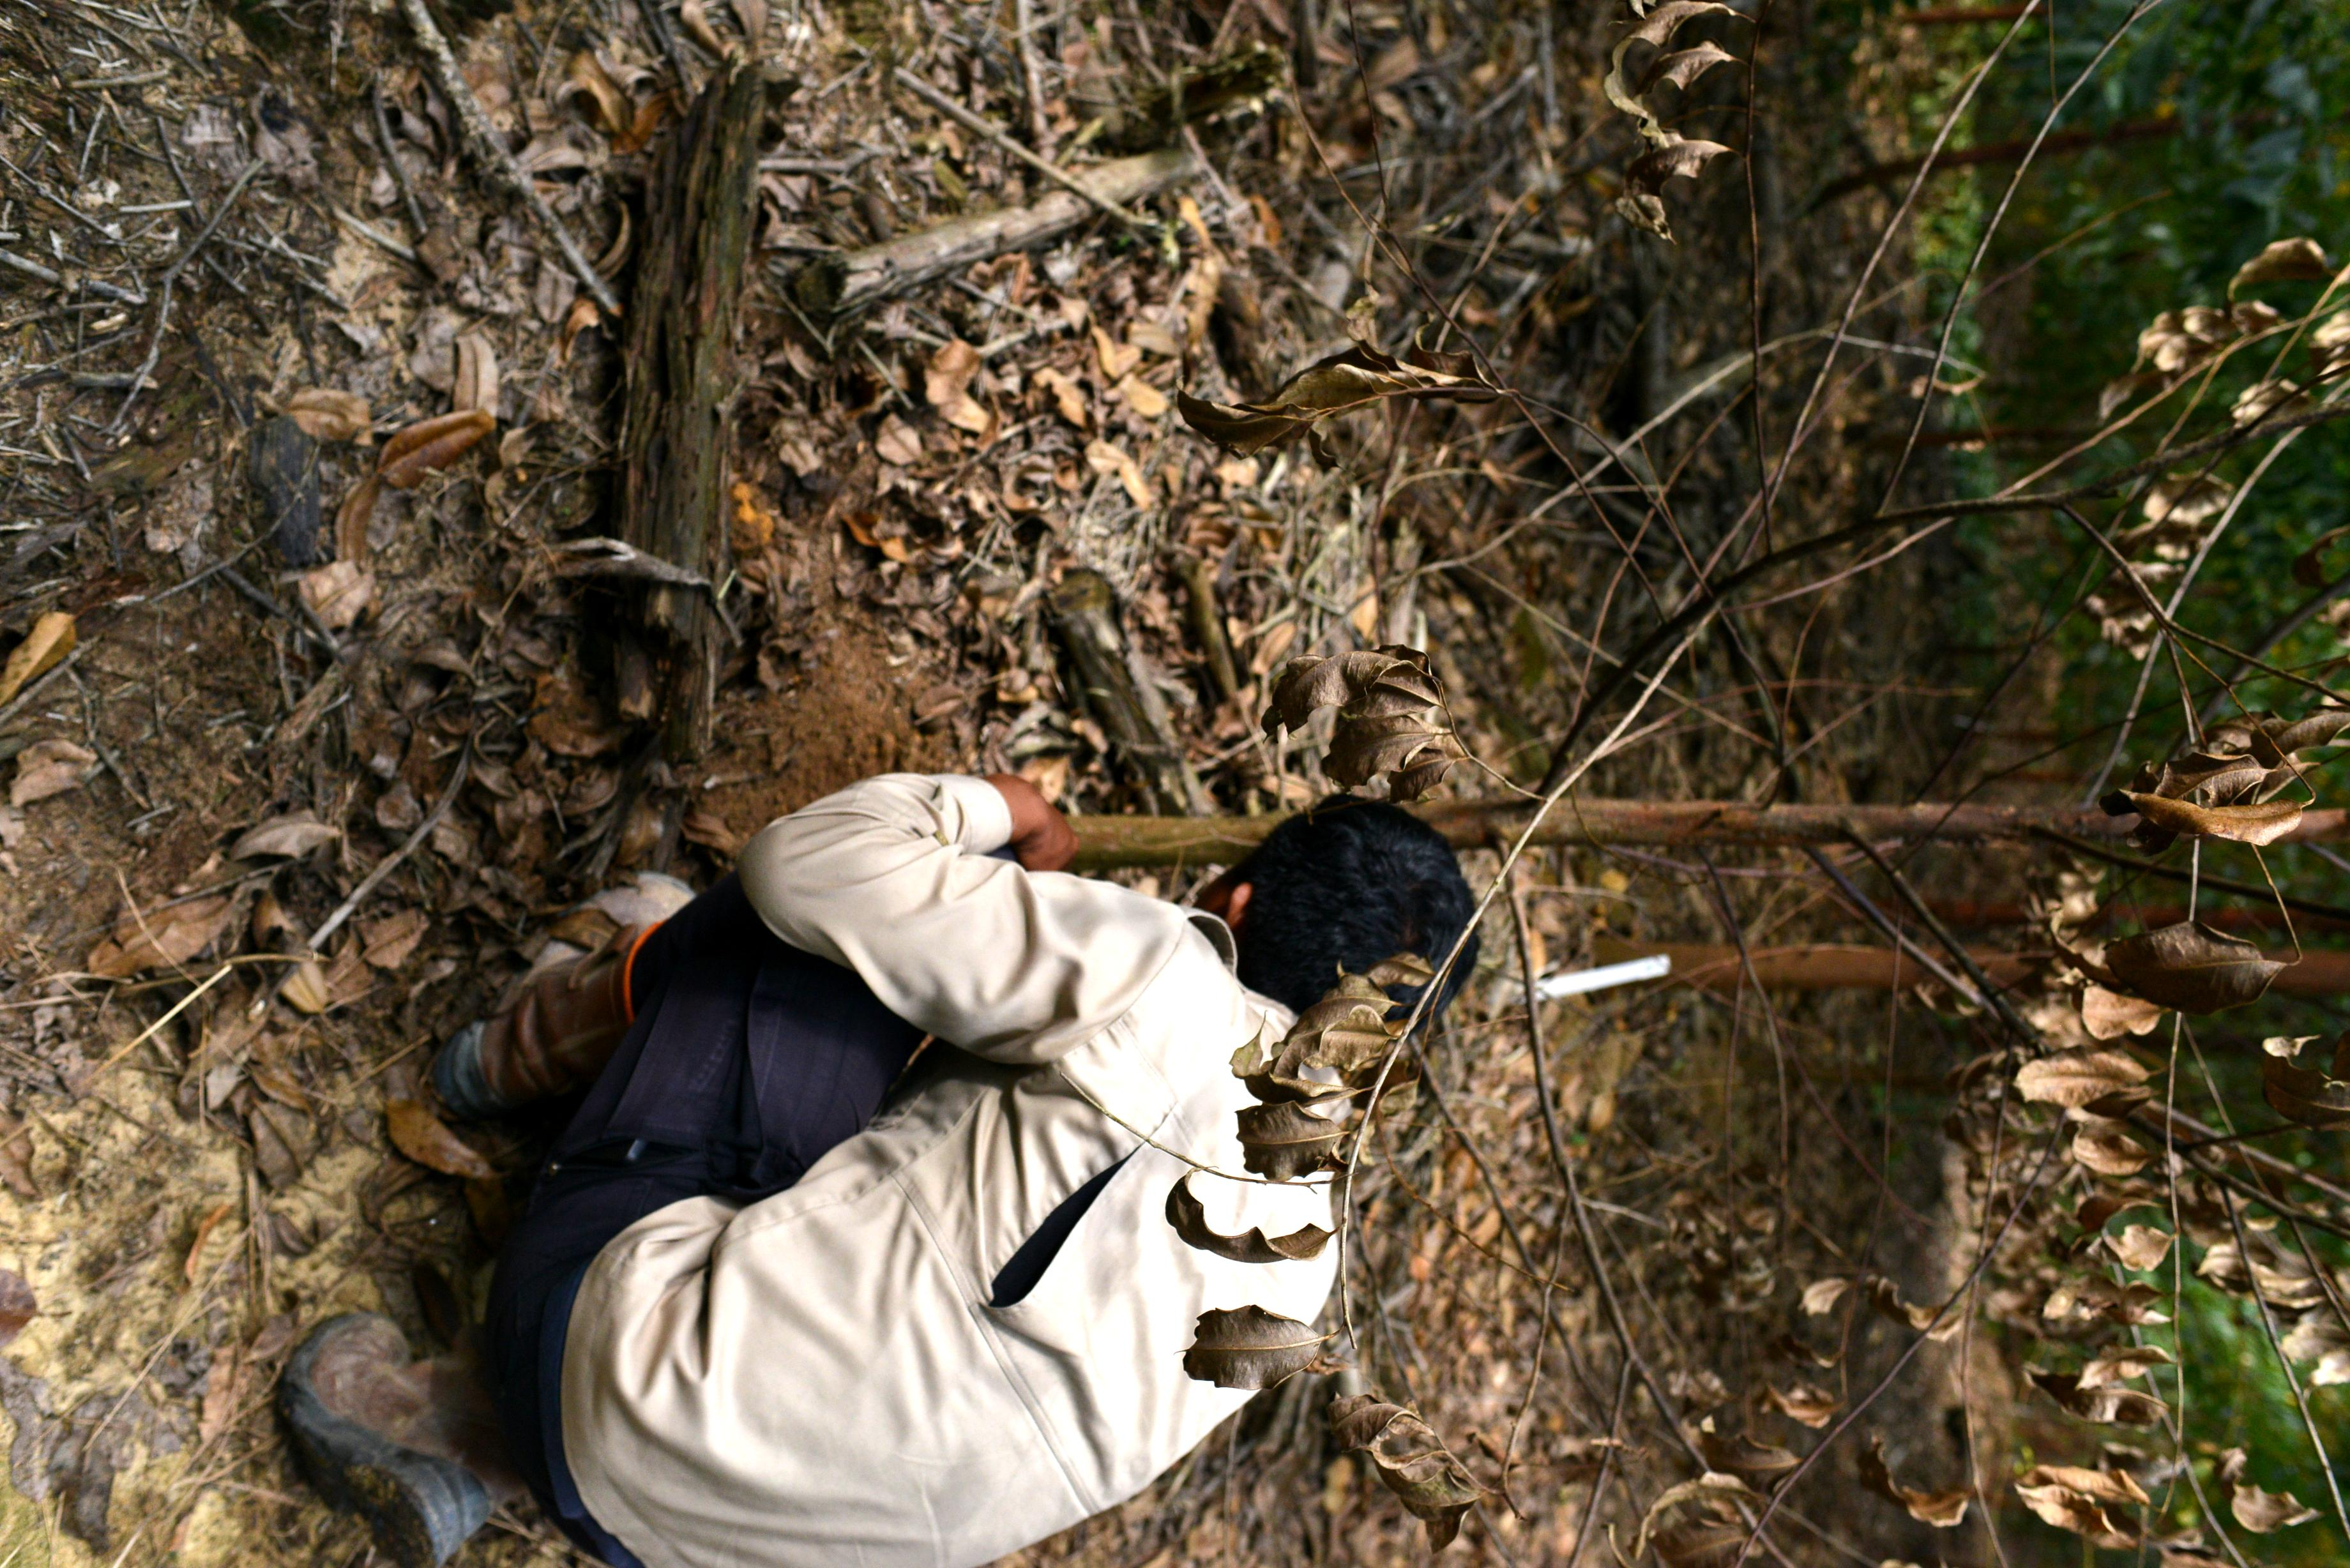Wither Tree Parts: (1501, 0, 2350, 1568)
